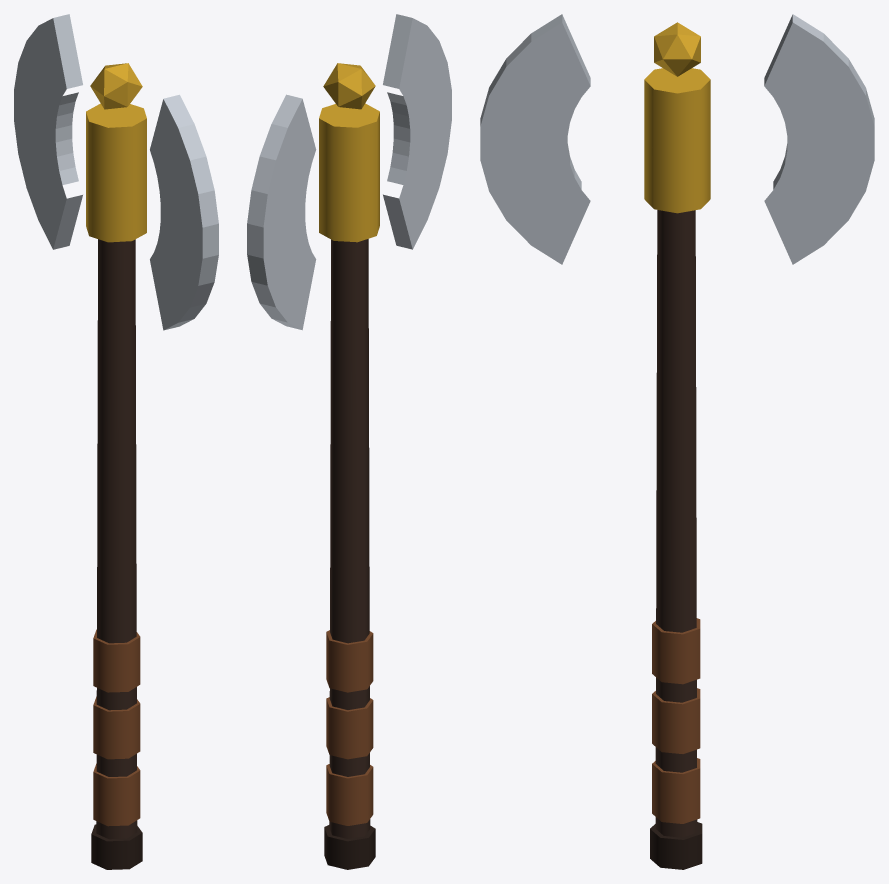
Rendered from tool_labrys.glb.
3 views of the same model, side by side, from view 1: azimuth 30°, elevation 25°; view 2: azimuth 150°, elevation 25°; view 3: azimuth 270°, elevation 25° (orthographic). The views are drawn at different scales.
Visible parts, largest first — view 1: _MeshInstance3D_913, _MeshInstance3D_920, _MeshInstance3D_919, _MeshInstance3D_918, _MeshInstance3D_917, _MeshInstance3D_916, _MeshInstance3D_915, _MeshInstance3D_921, _MeshInstance3D_914; view 2: _MeshInstance3D_913, _MeshInstance3D_919, _MeshInstance3D_920, _MeshInstance3D_918, _MeshInstance3D_917, _MeshInstance3D_916, _MeshInstance3D_915, _MeshInstance3D_914, _MeshInstance3D_921; view 3: _MeshInstance3D_913, _MeshInstance3D_919, _MeshInstance3D_920, _MeshInstance3D_918, _MeshInstance3D_917, _MeshInstance3D_916, _MeshInstance3D_915, _MeshInstance3D_921, _MeshInstance3D_914.
Part boxes in pixels (bbox=[...]): _MeshInstance3D_913: bbox=[96, 239, 137, 839]; _MeshInstance3D_920: bbox=[150, 94, 218, 330]; _MeshInstance3D_919: bbox=[14, 14, 82, 249]; _MeshInstance3D_918: bbox=[86, 103, 146, 242]; _MeshInstance3D_917: bbox=[93, 629, 140, 692]; _MeshInstance3D_916: bbox=[93, 696, 140, 759]; _MeshInstance3D_915: bbox=[93, 763, 140, 826]; _MeshInstance3D_921: bbox=[90, 63, 142, 109]; _MeshInstance3D_914: bbox=[91, 824, 142, 869]; _MeshInstance3D_913: bbox=[329, 239, 370, 838]; _MeshInstance3D_919: bbox=[247, 94, 316, 330]; _MeshInstance3D_920: bbox=[383, 14, 451, 249]; _MeshInstance3D_918: bbox=[319, 103, 379, 242]; _MeshInstance3D_917: bbox=[326, 630, 373, 692]; _MeshInstance3D_916: bbox=[326, 697, 373, 759]; _MeshInstance3D_915: bbox=[326, 764, 373, 825]; _MeshInstance3D_914: bbox=[324, 825, 375, 869]; _MeshInstance3D_921: bbox=[323, 63, 375, 109]; _MeshInstance3D_913: bbox=[655, 210, 697, 837]; _MeshInstance3D_919: bbox=[764, 14, 874, 264]; _MeshInstance3D_920: bbox=[480, 14, 590, 264]; _MeshInstance3D_918: bbox=[644, 68, 710, 213]; _MeshInstance3D_917: bbox=[652, 618, 700, 684]; _MeshInstance3D_916: bbox=[652, 688, 700, 753]; _MeshInstance3D_915: bbox=[652, 758, 700, 823]; _MeshInstance3D_921: bbox=[654, 22, 700, 76]; _MeshInstance3D_914: bbox=[650, 822, 702, 869].
Bounding box in the file's own units: 0.06 × 0.8414 × 0.358.
